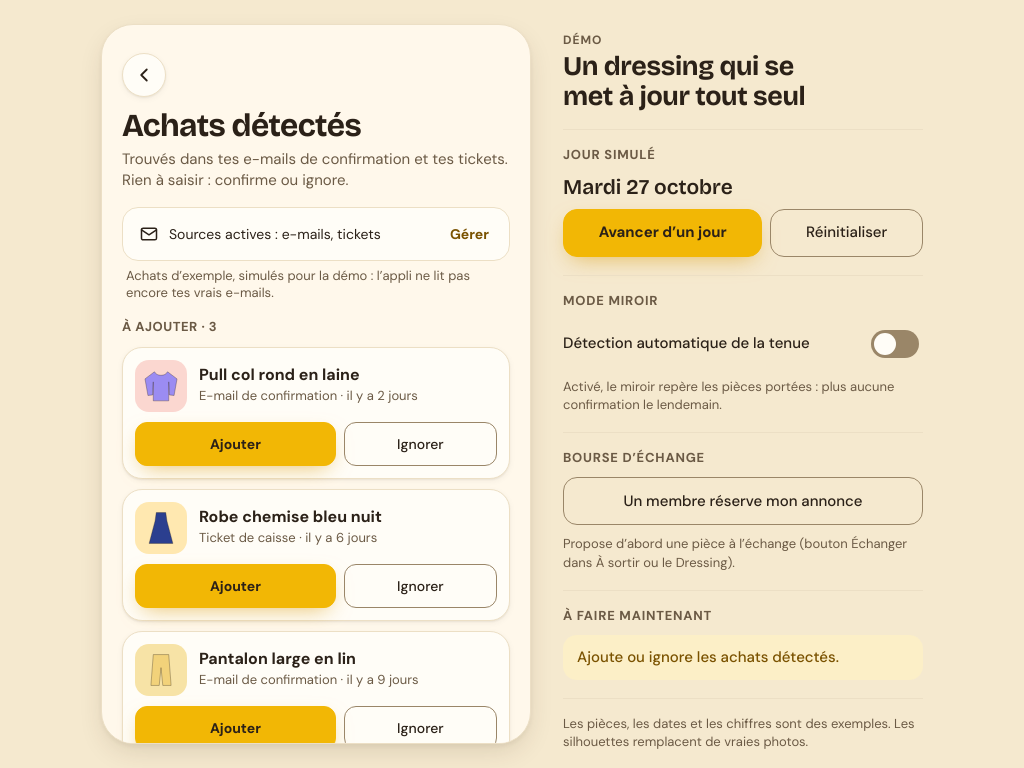
Test case: Achats détectés › Ajouter met la pièce au dressing (source purchase) et passe le focus à l’achat suivant
Expected: the heading "Achats détectés" is shown, [122,106,361,145]
Click the button with aria-label "Ajouter Robe chemise bleu nuit" at [235, 586], box [135,564,336,608]
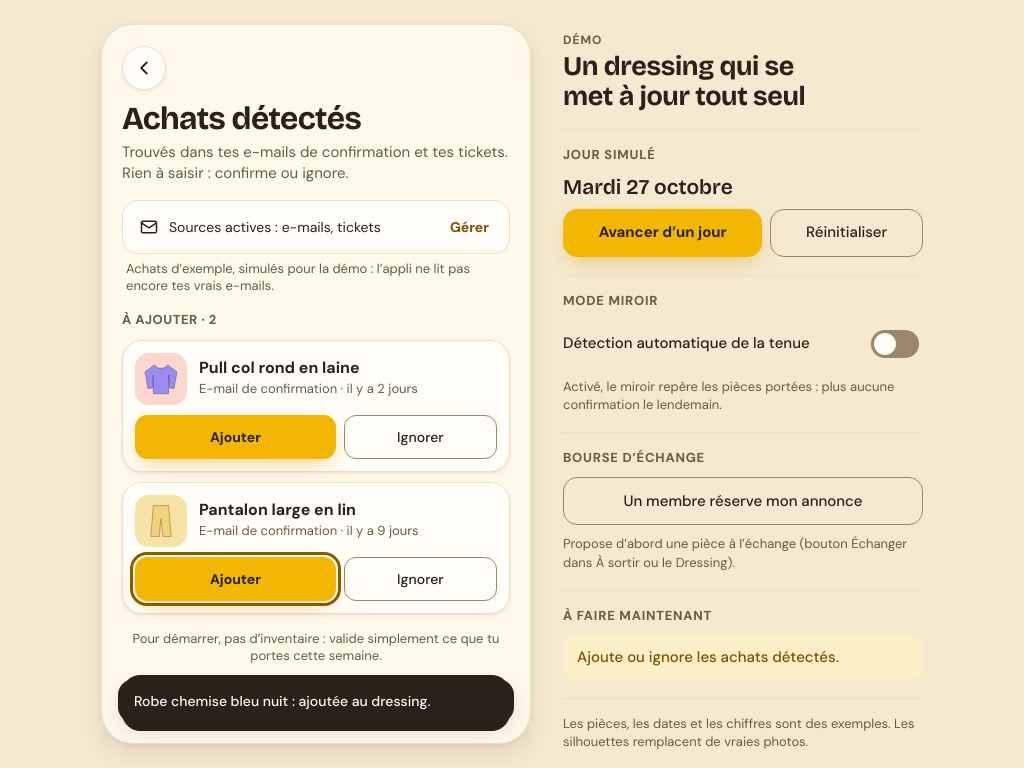
Expected: the text "Robe chemise bleu nuit : ajoutée au dressing." is shown, [134,691,430,711]
Expected: the heading "À ajouter · 2" is shown, [122,311,217,328]
